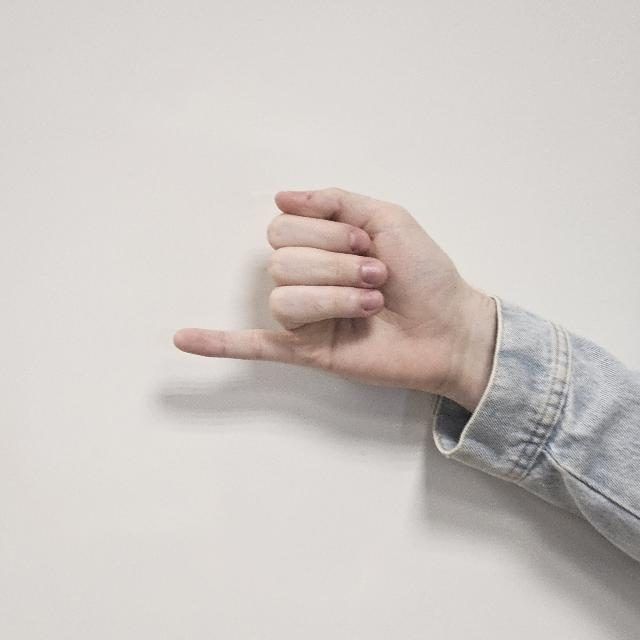Esquerda: (176, 152, 482, 414)
